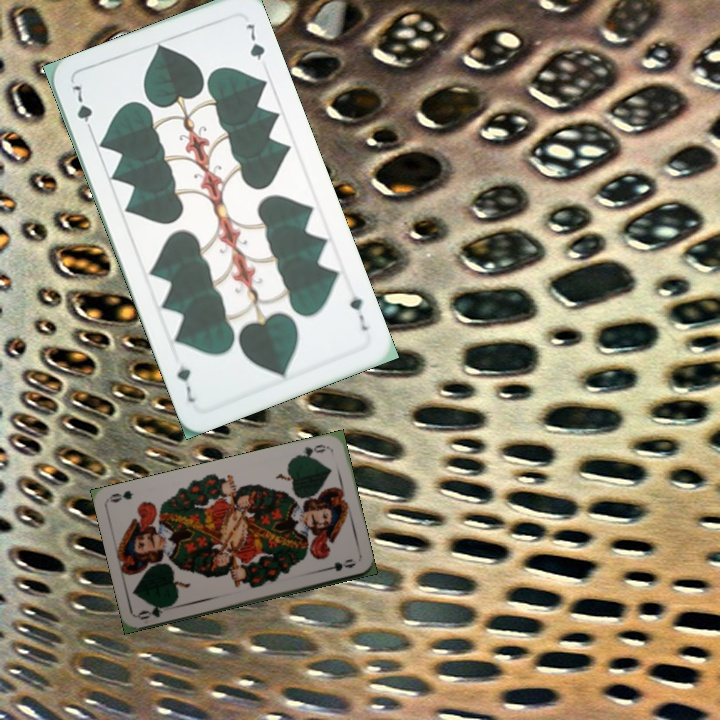G7: (68, 80, 96, 137), (345, 291, 371, 334)
GO: (135, 599, 174, 622), (291, 440, 331, 461)
